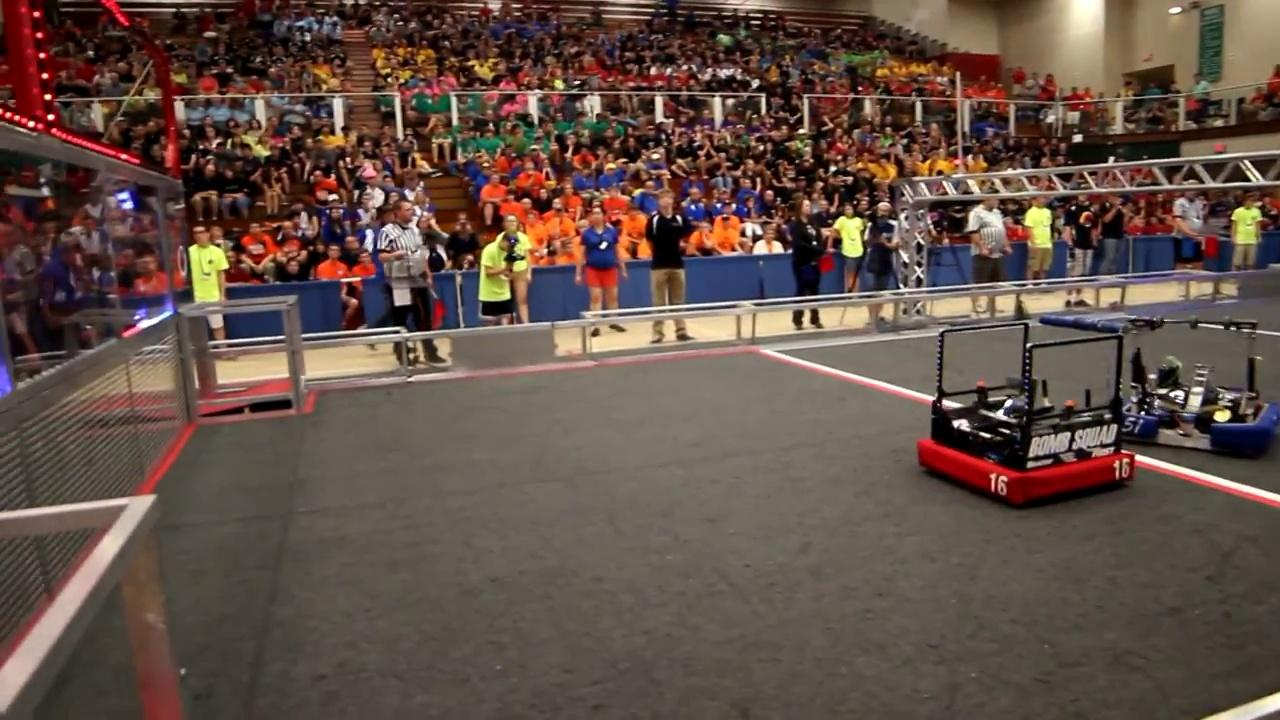robot: (915, 307, 1138, 507), (1110, 306, 1280, 460)
